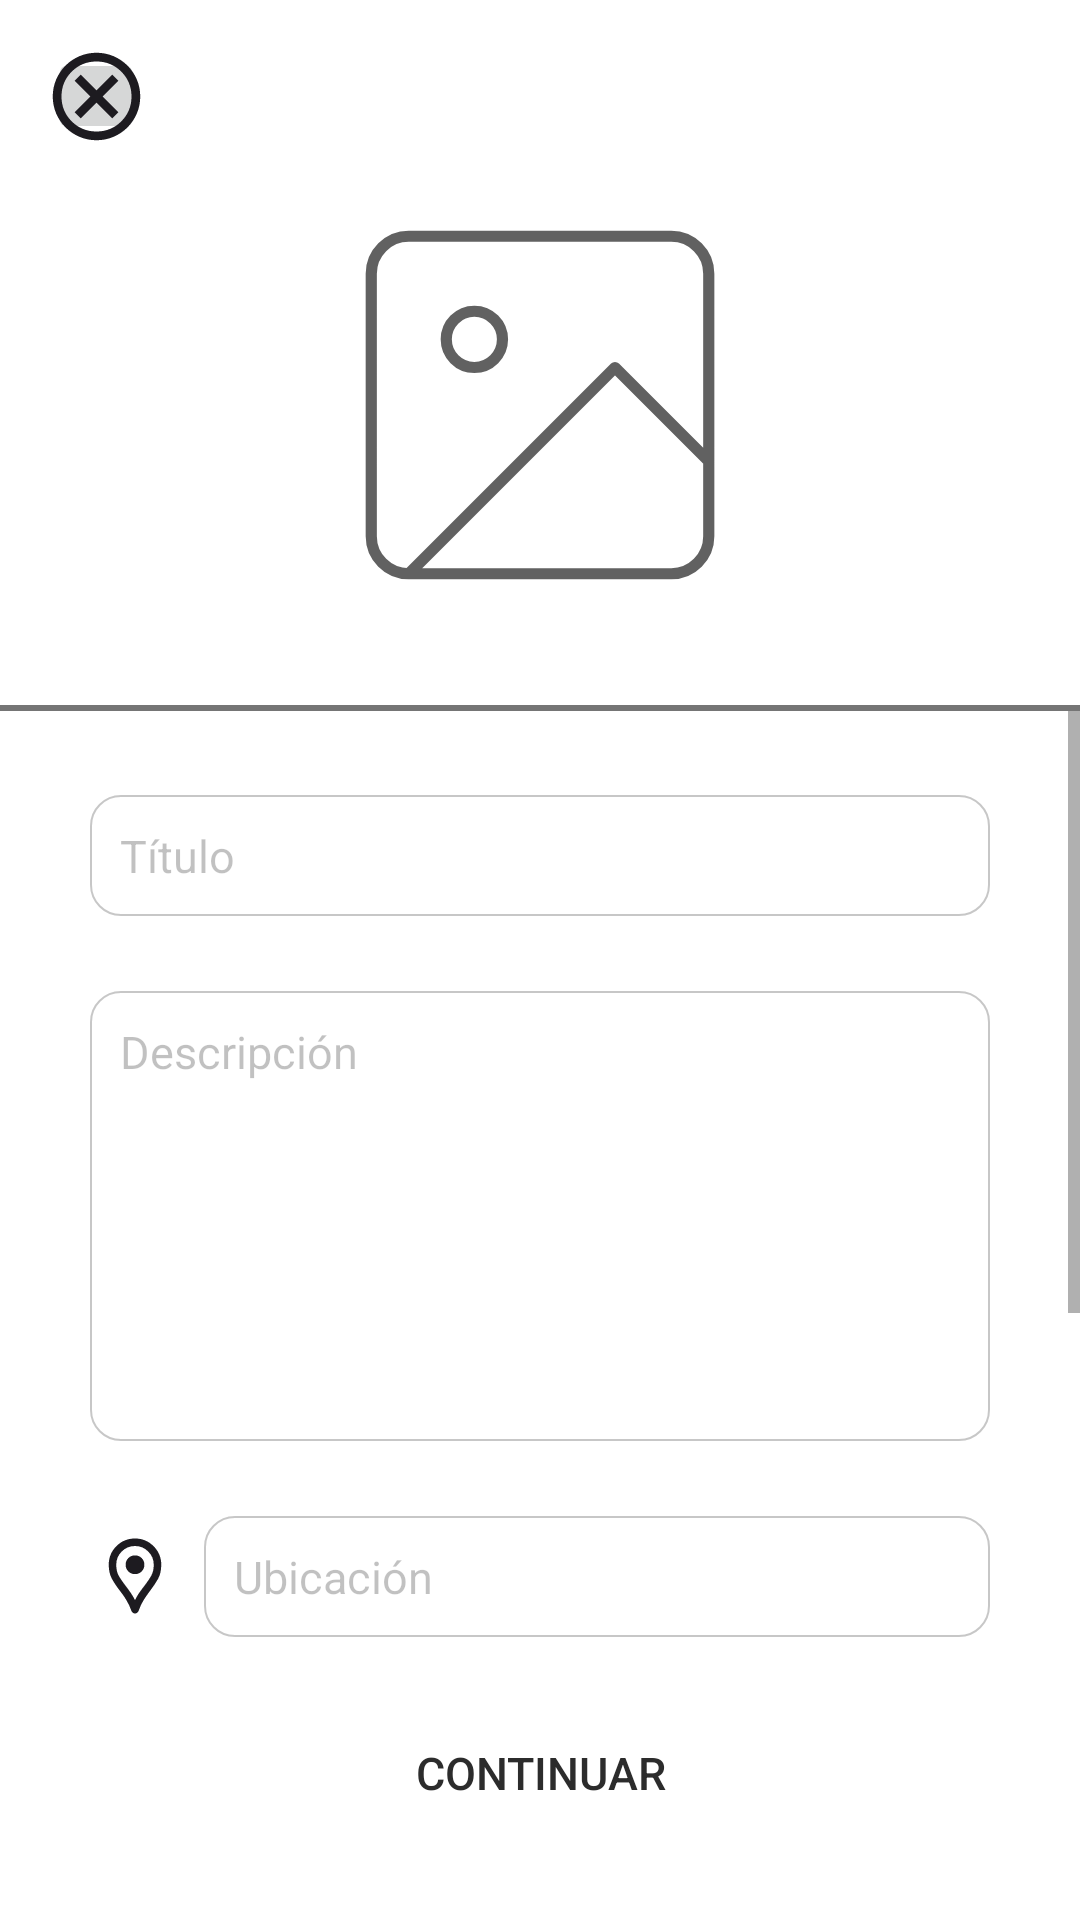

Icon click points for this 1080*1920 phone screenshot, format (x=x, y=y):
close: (x=96, y=96)
location: (x=135, y=1576)
